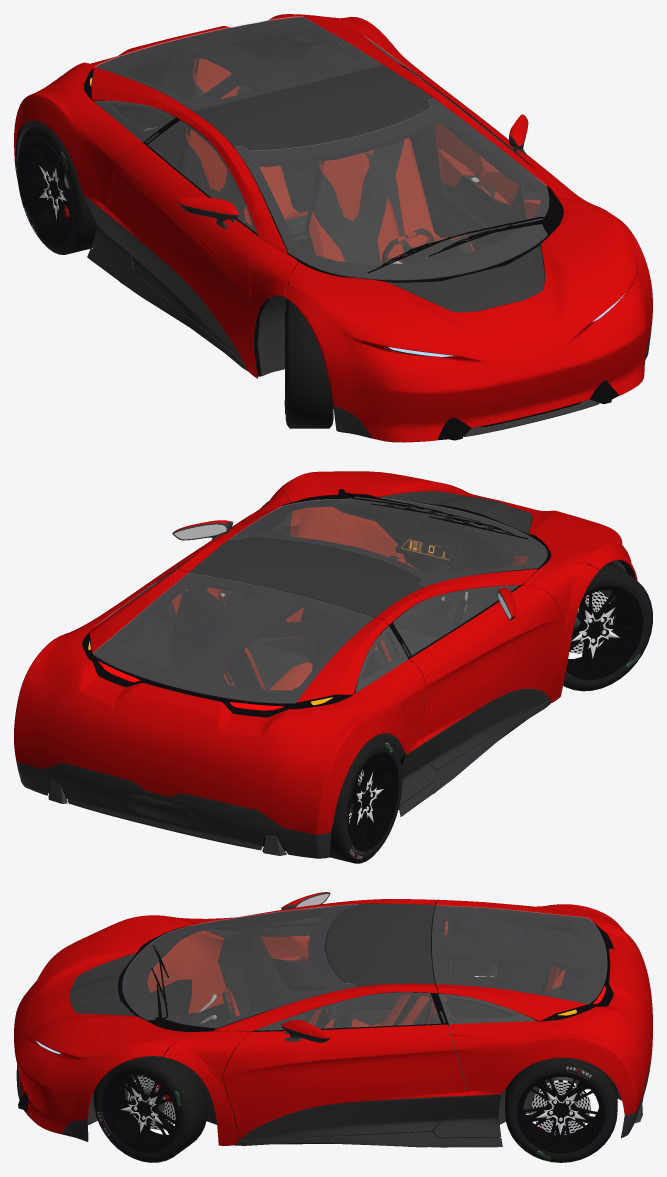
File: coupe.glb
3 renders of one model, top to bottom at view 1: azimuth 30°, elevation 25°; view 2: azimuth 150°, elevation 25°; view 3: azimuth 270°, elevation 25°, orthographic. The views are drawn at different scales.
Visible parts, largest first — view 1: BodyHood, BodyWindshield, BodyRearwindow, BodyDoorRColor1, BodyRearPanelsColor1, BodyRoofPanel, BodyWindshieldGasket, InteriorSeatsColor1, InteriorSeatsColor2, BodyPillars, InteriorPillar, InteriorRearHatch (+21 smaller); view 2: BodyRearPanelsColor1, BodyRearwindow, BodyWindshield, BodyPanelsColor2, BodyDoorRColor1, BodyRoofPanel, BodyHood, InteriorRearHatch, BodyPillars, InteriorPillar, BodyWindshieldGasket, InteriorDashMid (+22 smaller); view 3: BodyRearPanelsColor1, BodyWindshield, BodyDoorLColor1, BodyHood, BodyRearwindow, BodyRoofPanel, BodyPillars, BodyWindshieldGasket, BodyDoorLColor2, BodyPanelsColor2, WheelFrontLTire, InteriorRearHatch (+25 smaller).
Boxes of the visible parts, x1,y1,x2,y2 form: BodyHood: (283,198,652,442); BodyWindshield: (234,98,548,280); BodyRearwindow: (95,16,382,110); BodyDoorRColor1: (104,143,257,362); BodyRearPanelsColor1: (14,14,428,210); BodyRoofPanel: (193,65,432,150); BodyWindshieldGasket: (234,99,563,282); InteriorSeatsColor1: (185,58,475,264); InteriorSeatsColor2: (180,79,472,264); BodyPillars: (176,61,597,378); InteriorPillar: (158,37,434,169); InteriorRearHatch: (94,17,382,118); BodyRearPanelsColor1: (14,569,425,834); BodyRearwindow: (92,573,373,703); BodyWindshield: (229,497,547,587); BodyPanelsColor2: (16,700,550,858); BodyDoorRColor1: (409,585,562,742); BodyRoofPanel: (189,537,422,617); BodyHood: (278,471,637,580); InteriorRearHatch: (93,573,386,708); BodyPillars: (175,489,599,702); InteriorPillar: (174,574,417,682); BodyWindshieldGasket: (230,497,550,587); InteriorDashMid: (333,501,525,622); BodyRearPanelsColor1: (436,899,652,1115); BodyWindshield: (122,904,357,1028); BodyDoorLColor1: (222,1024,467,1139); BodyHood: (14,915,197,1133); BodyRearwindow: (432,905,606,1003); BodyRoofPanel: (326,903,434,986); BodyPillars: (163,899,437,1145); BodyWindshieldGasket: (118,905,357,1032); BodyDoorLColor2: (240,1096,467,1140); BodyPanelsColor2: (16,1050,652,1147); WheelFrontLTire: (93,1054,207,1162); InteriorRearHatch: (431,905,606,1021).
Size of the model in its own units: 2.54 by 1.15 by 4.36.
22 materials, 5 textured.
